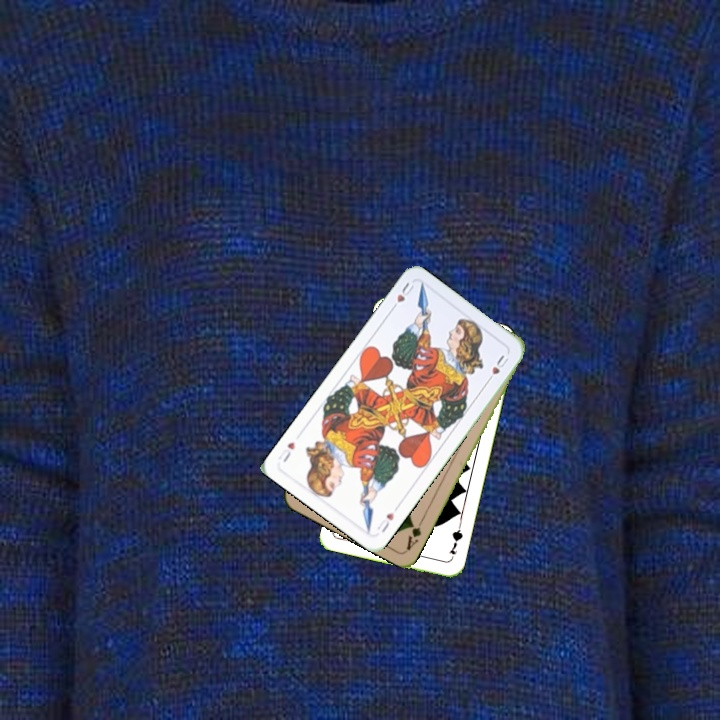G7: (445, 523, 465, 563)
GA: (402, 515, 426, 553)
HU: (387, 278, 416, 313), (373, 508, 397, 535)
